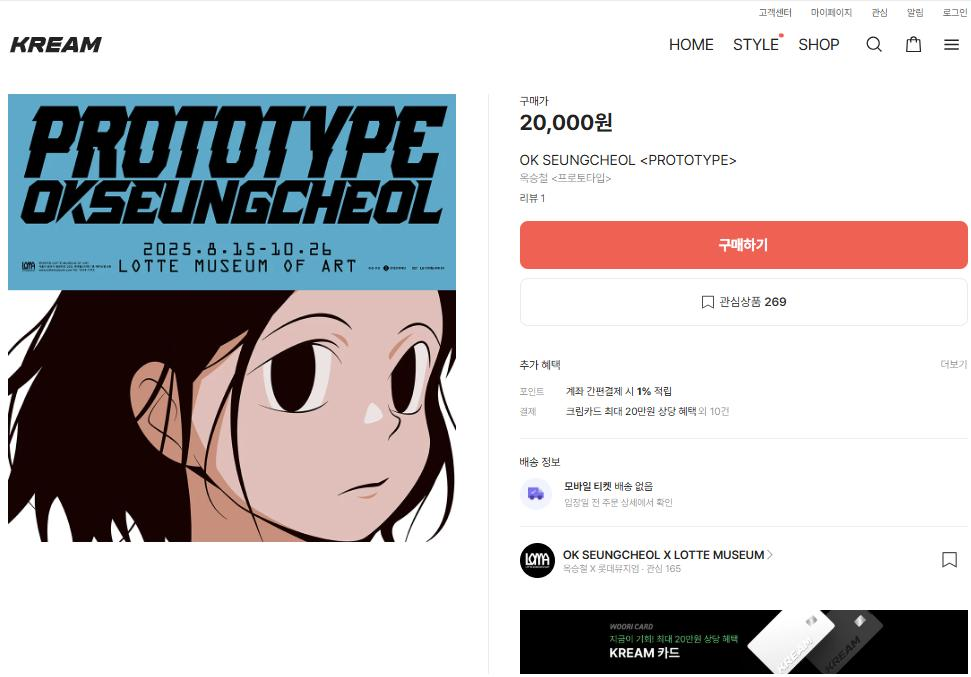button: (518, 220, 966, 269), (521, 277, 967, 326), (560, 543, 786, 564), (729, 30, 793, 63), (795, 32, 850, 64), (665, 35, 727, 60), (860, 33, 894, 58), (809, 5, 854, 22), (938, 550, 965, 577), (899, 35, 928, 57), (754, 5, 794, 20), (937, 360, 970, 376), (943, 35, 968, 56), (940, 6, 970, 23), (865, 5, 888, 23), (899, 7, 928, 20)
popup: (519, 609, 970, 673)
